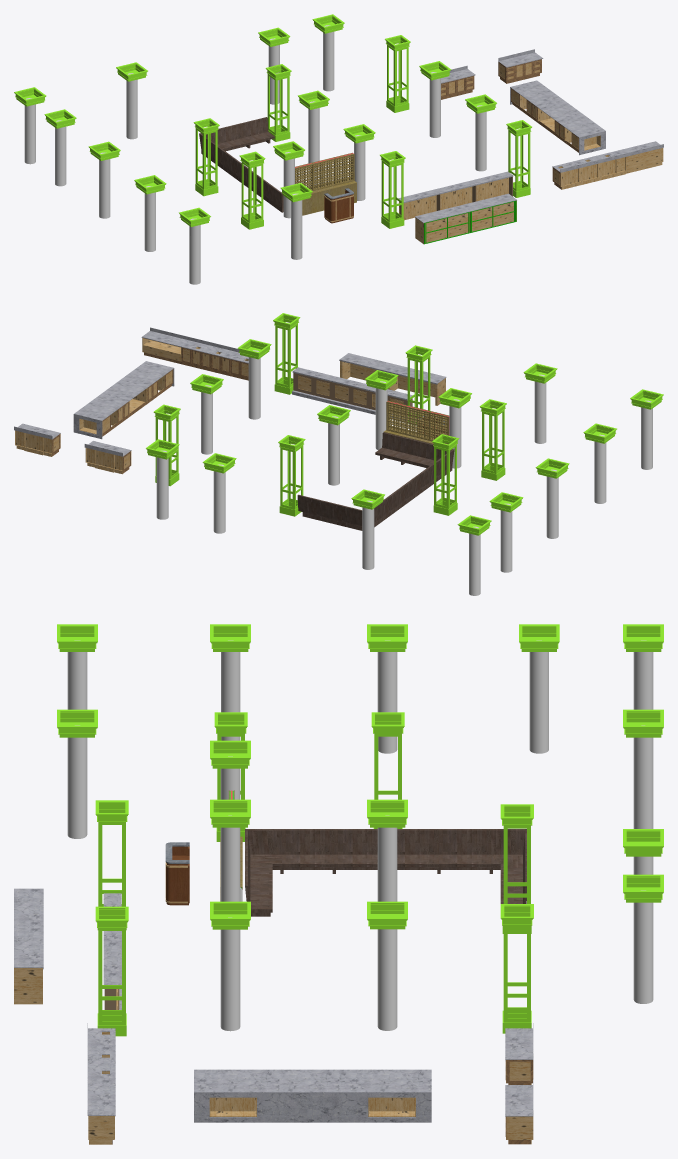
File: voyager.glb
3 renders of one model, top to bottom at view 1: azimuth 30°, elevation 25°; view 2: azimuth 150°, elevation 25°; view 3: azimuth 270°, elevation 25°, orthographic. The views are drawn at different scales.
Visible parts, largest first — view 1: G-SVB.3COUNTER FRAME.001, G-SVB.3COUNTER FRAME, G-BUFFET_STONE 3, G-Object.646, G-Object.633, G-Object.638, G-Object.642, G-Object.644, G-Object.639, G-Object.641, G-Object.636, G-Object.640 (+14 smaller); view 2: G-BUFFET_STONE 3, G-Object.633, G-Object.638, G-Object.646, G-Object.639, G-Object.642, G-Object.644, G-Object.645, G-Object.640, G-BUFFET_STONE 1, G-Object.643, G-Object.641 (+7 smaller); view 3: G-BUFFET_STONE 3, G-Object.633, G-Object.642, G-Object.646, G-Object.636, G-BUFFET_STONE 1, G-Object.639, G-Object.644, G-Object.092, G-Object.638, G-Object.635, G-Object.634 (+19 smaller).
Part boxes in pixels (x1,y1,x2,y2): G-SVB.3COUNTER FRAME.001: (426, 213, 468, 242); G-SVB.3COUNTER FRAME: (472, 202, 513, 231); G-BUFFET_STONE 3: (510, 80, 563, 106); G-Object.646: (323, 25, 334, 91); G-Object.633: (475, 105, 486, 171); G-Object.638: (99, 152, 110, 218); G-Object.642: (291, 193, 302, 259); G-Object.644: (126, 73, 137, 139); G-Object.639: (55, 120, 66, 186); G-Object.641: (189, 218, 200, 284); G-Object.636: (429, 72, 440, 137); G-Object.640: (144, 186, 155, 251); G-BUFFET_STONE 3: (74, 393, 129, 420); G-Object.633: (248, 350, 260, 419); G-Object.638: (546, 469, 558, 538); G-Object.646: (156, 450, 168, 519); G-Object.639: (500, 503, 512, 572); G-Object.642: (534, 374, 546, 443); G-Object.644: (362, 500, 374, 569); G-Object.645: (213, 464, 225, 533); G-Object.640: (594, 434, 606, 503); G-BUFFET_STONE 1: (120, 361, 173, 386); G-Object.643: (469, 526, 480, 595); G-Object.641: (641, 400, 652, 469); G-BUFFET_STONE 3: (339, 1069, 431, 1092); G-Object.633: (220, 917, 240, 1031); G-Object.642: (67, 725, 87, 838); G-Object.646: (633, 890, 653, 1003); G-Object.636: (377, 929, 397, 1030); G-BUFFET_STONE 1: (194, 1069, 279, 1092); G-Object.639: (529, 640, 548, 753); G-Object.644: (633, 725, 653, 828); G-Object.092: (279, 1093, 339, 1122); G-Object.638: (377, 640, 397, 753); G-Object.635: (377, 815, 397, 901); G-Object.634: (220, 815, 240, 901).
Size of the model in its own units: 24.6 by 3.32 by 16.67.
17 materials, 9 textured.
